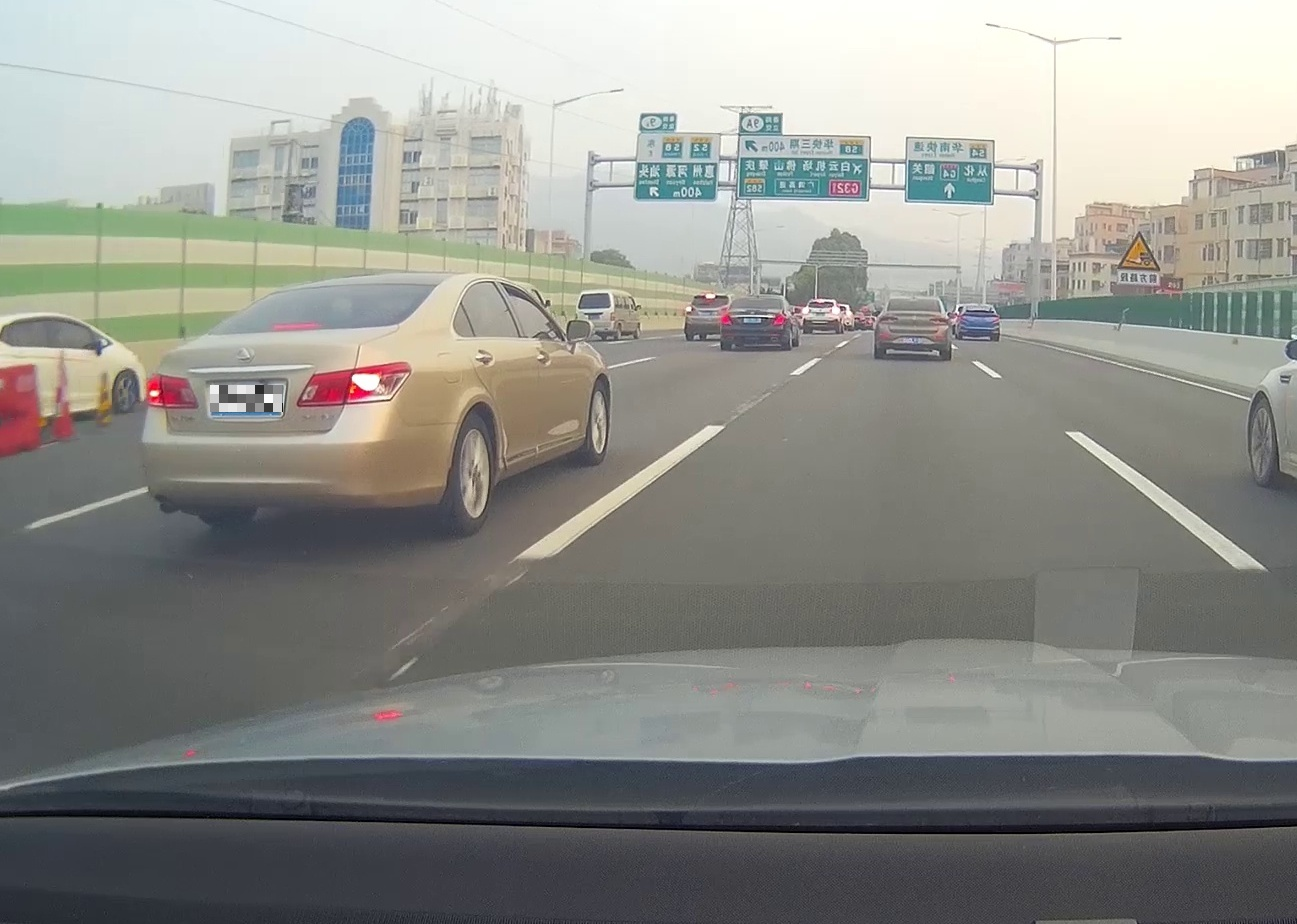L_light: (144, 372, 199, 408), (721, 312, 733, 325), (878, 315, 898, 322)
R_light: (296, 360, 412, 408), (772, 311, 785, 326), (930, 316, 950, 324)
T_light: (271, 321, 321, 331), (751, 297, 764, 301), (907, 298, 919, 302)
day-no: (874, 296, 952, 359), (719, 292, 793, 350)
day-right: (139, 271, 443, 529)
plate_1: (210, 385, 283, 412)
